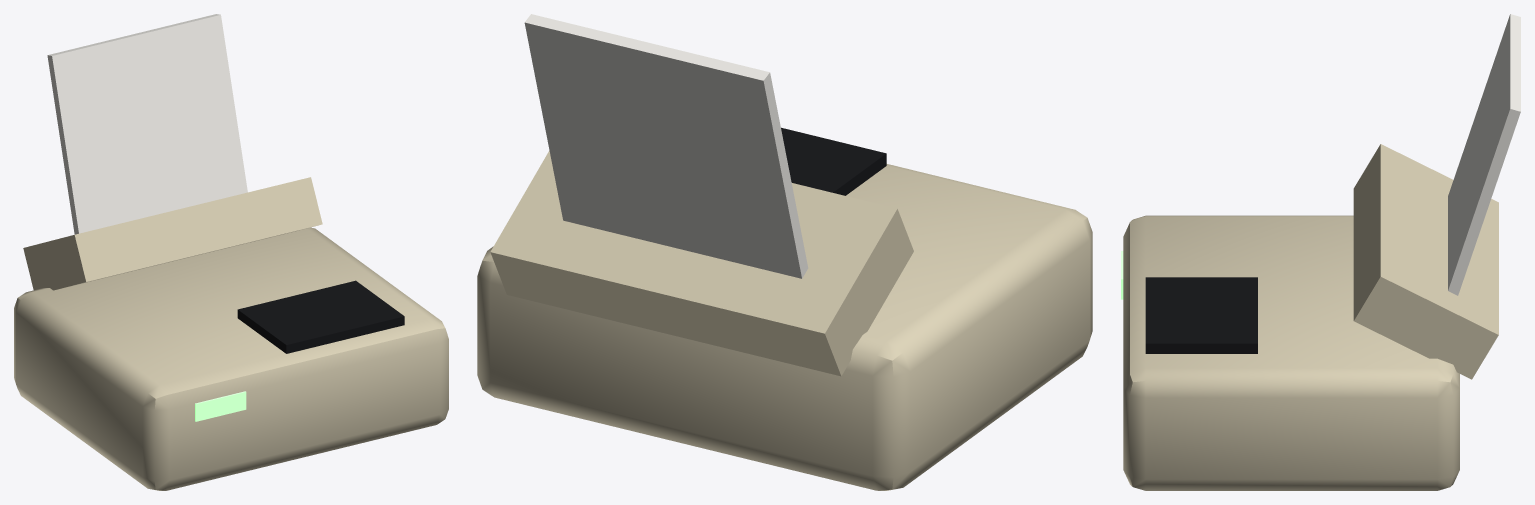
The model's file is fax.glb.
The picture shows the model from 3 angles, left to right: view 1: azimuth 30°, elevation 25°; view 2: azimuth 150°, elevation 25°; view 3: azimuth 270°, elevation 25°; orthographic projection. The views are drawn at different scales.
Parts seen in each view (by area): view 1: fax, screen; view 2: fax; view 3: fax.
Boxes of the visible parts, left/top/right/bottom form: fax: left=14, top=14, right=448, bottom=490; screen: left=195, top=391, right=246, bottom=421; fax: left=477, top=14, right=1092, bottom=490; fax: left=1123, top=14, right=1520, bottom=490.
Bounding box in the file's own units: 0.36 × 0.347 × 0.3563.
